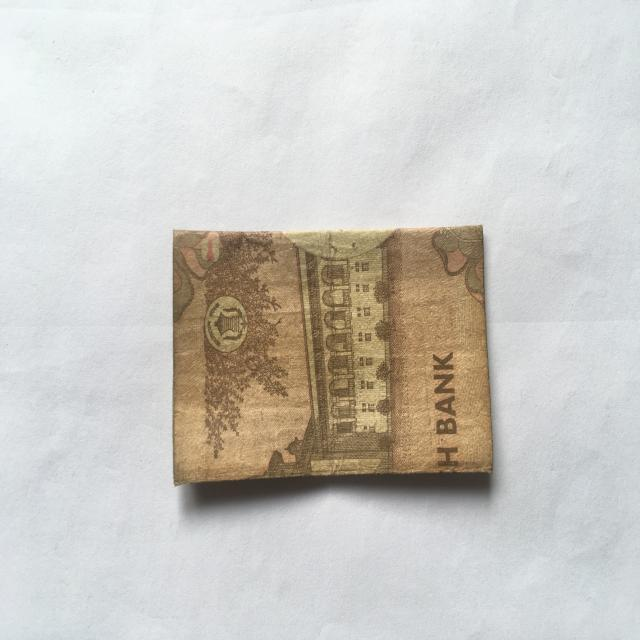Taka: (168, 220, 499, 487)
